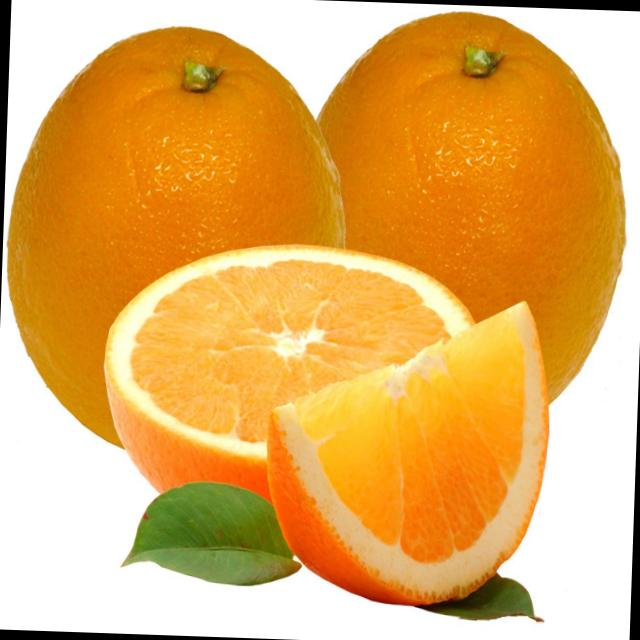orange: (0, 23, 376, 491), (282, 11, 640, 453)
